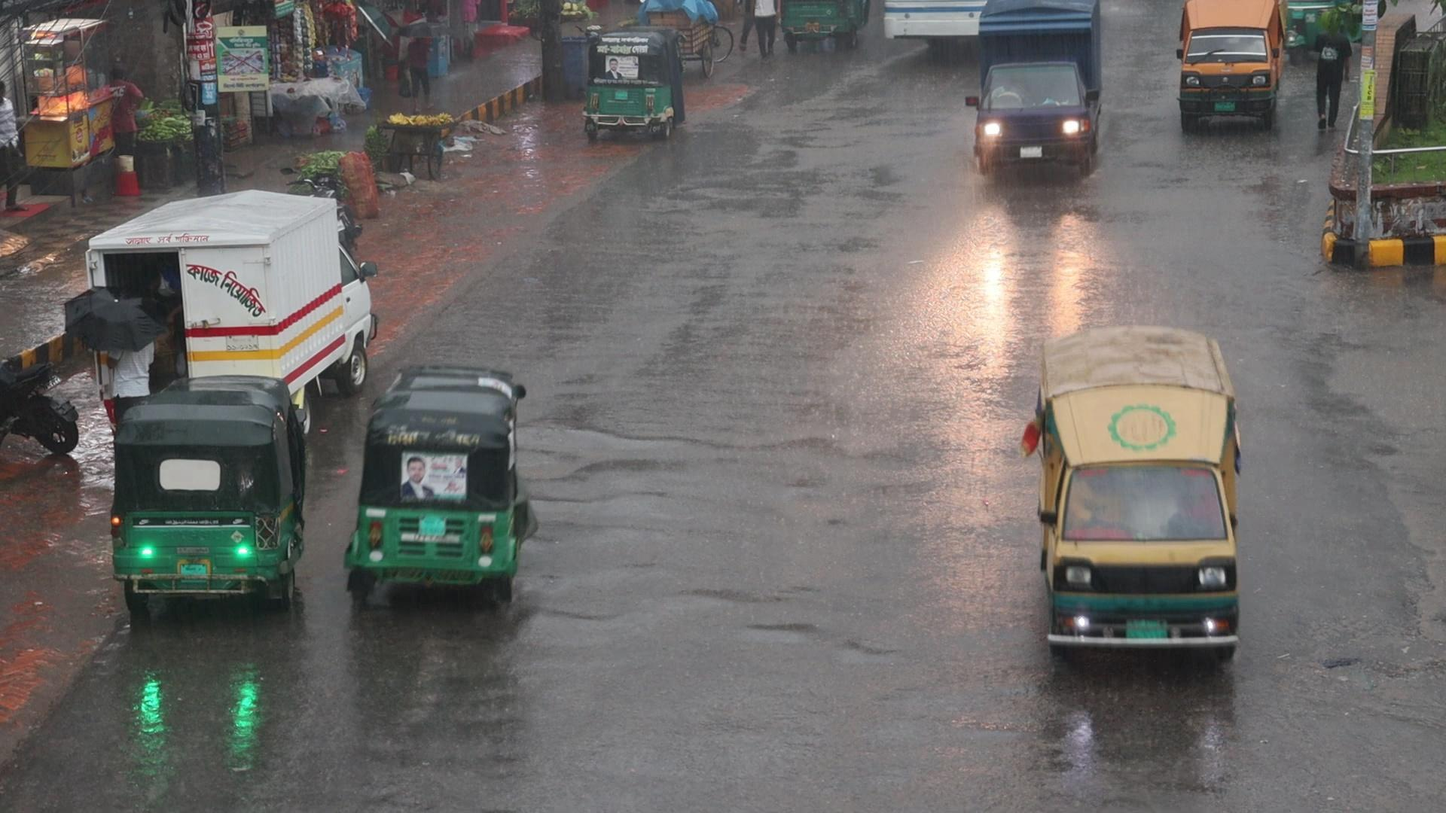Truck: (1027, 318, 1248, 674), (970, 0, 1106, 180), (1175, 2, 1280, 134)
